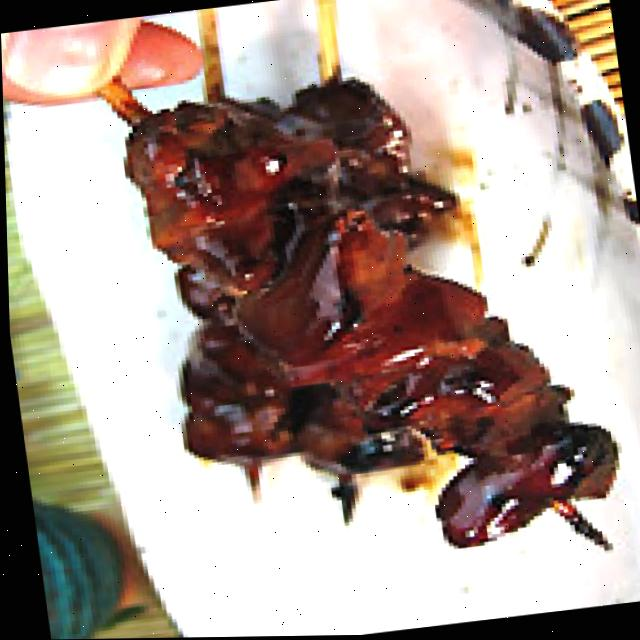烧串烤肉: (68, 0, 640, 628)
